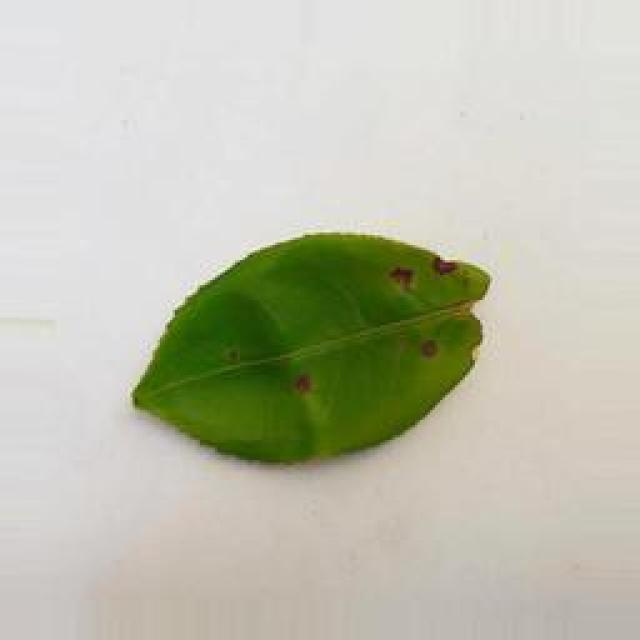Helopeltis: (122, 224, 501, 474)
